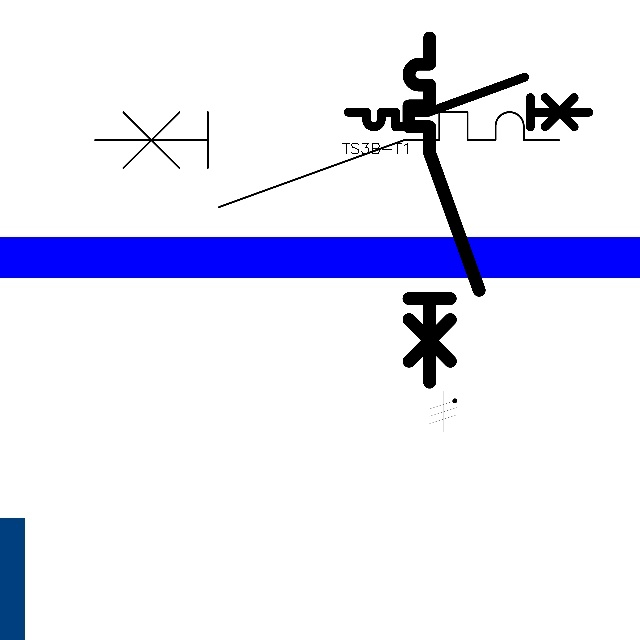interruptor_termomagnetico: (83, 100, 571, 219), (400, 29, 488, 391), (342, 71, 595, 133)
